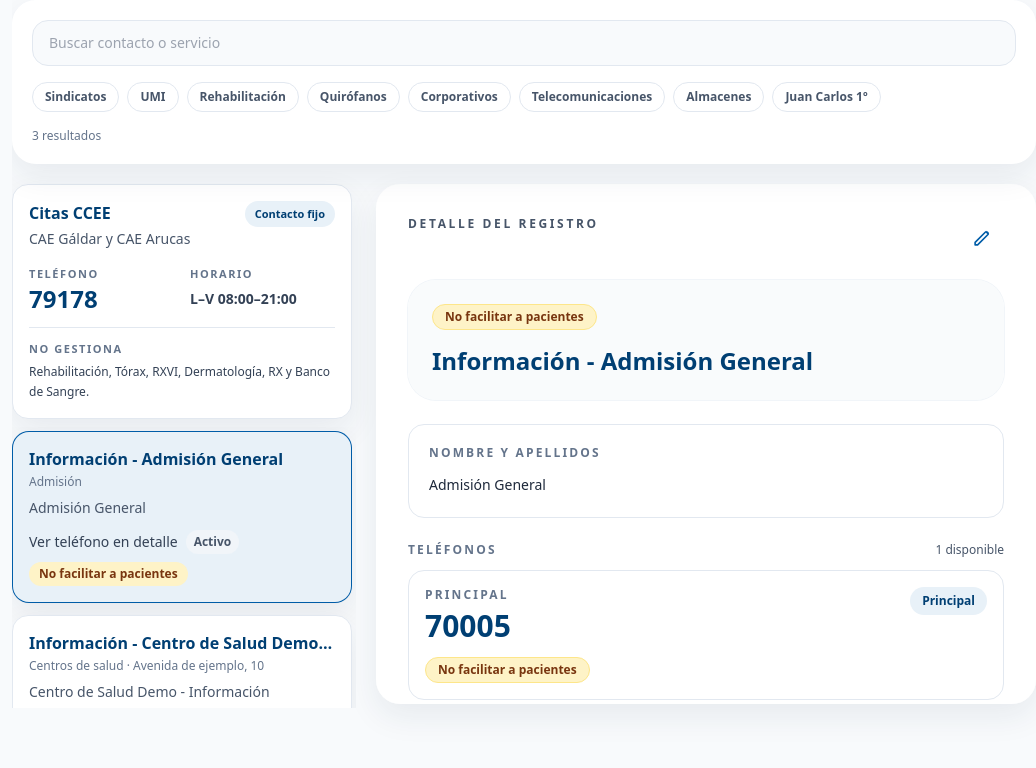
Test: DirectoryPage › announces result counts as a polite atomic status update
The width and height of the screenshot is (1036, 768).
Expected: the message reads "3 resultados", [32, 127, 101, 144]
Type "Control de planta" into the search field named "Buscar contactos" at point(524, 43), box [32, 20, 1016, 66]
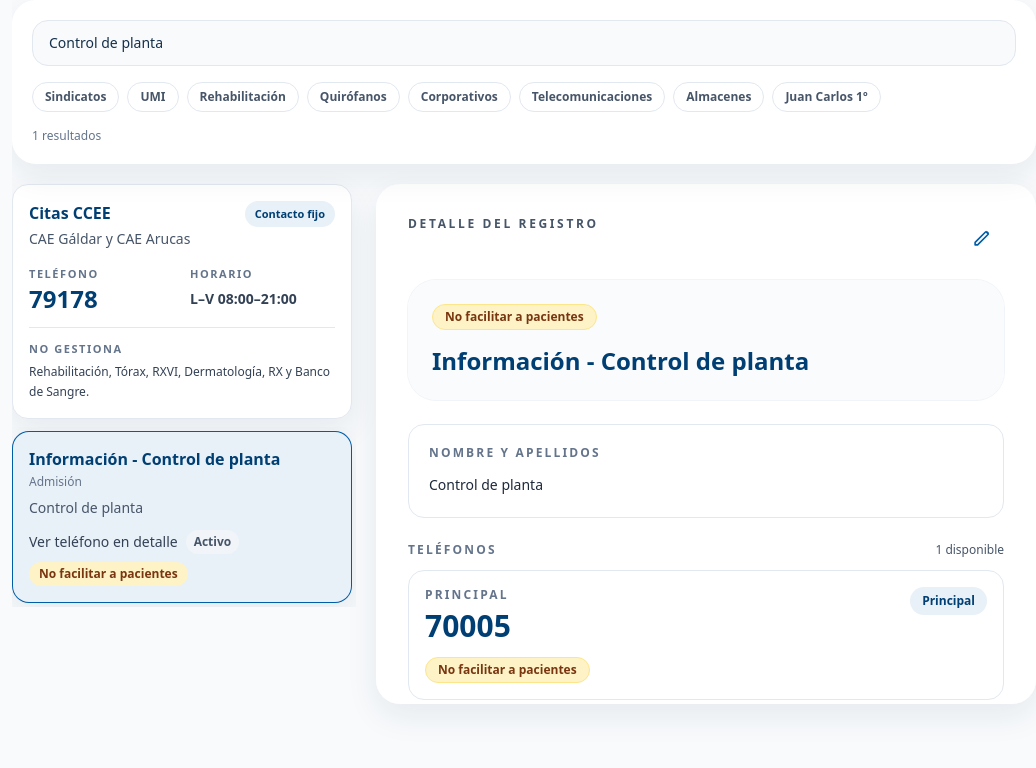
Expected: the message reads "1 resultados", [32, 127, 101, 144]
